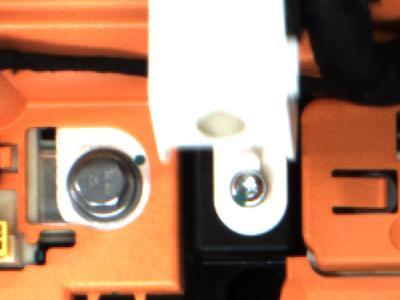nut_b: (61, 142, 148, 229)
